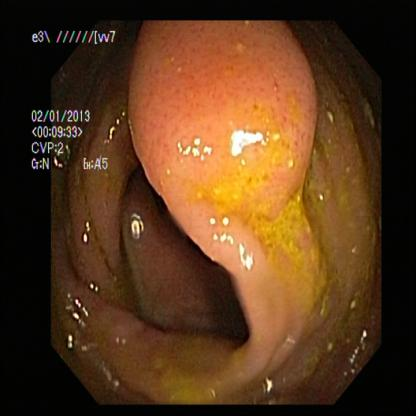Labels: (27, 20, 122, 190)
Polyps: (133, 20, 336, 242)
